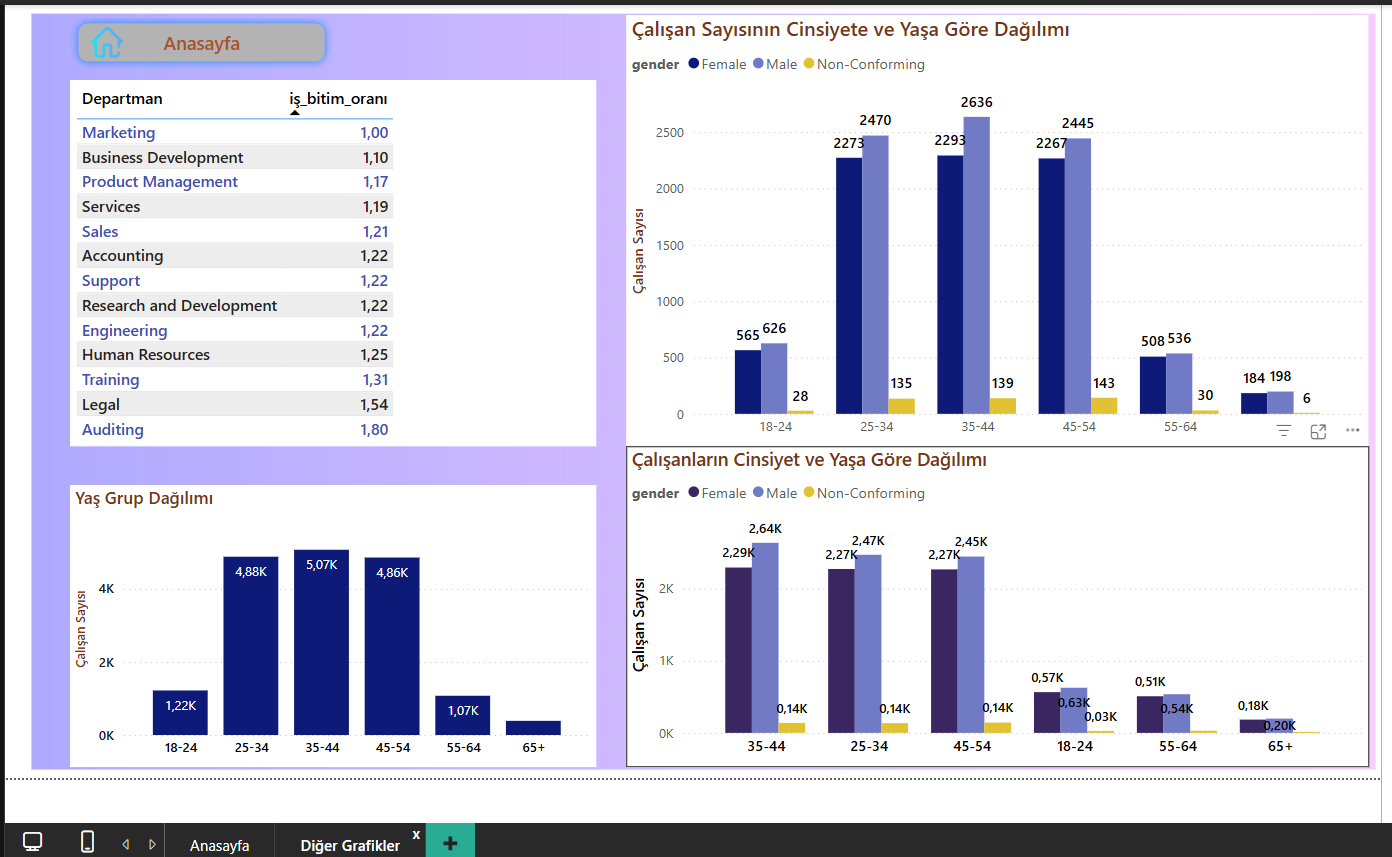

This screenshot's page, from the dashboard's own definition file:
{"tool":"powerbi","page":{"name":"Diğer Grafikler","canvas":[1280,720],"ordinal":1},"visuals":[{"type":"image","box":[19.8,0,1260.5,719.8],"z":0},{"type":"columnChart","title":"Yaş Grup Dağılımı","fields":{"Category":["age_grouped_gender.yaş_grubu"],"Y":["Sum(age_grouped_gender.toplam)"]},"box":[60.5,446.5,489.5,262.8],"z":1000},{"type":"clusteredColumnChart","title":"Çalışan Sayısının Cinsiyete ve Yaşa Göre Dağılımı","fields":{"Category":["age_grouped_gender.yaş_grubu"],"Y":["Sum(age_grouped_gender.toplam)"],"Series":["age_grouped_gender.gender"]},"box":[577.9,9.3,690.7,401.2],"z":2000},{"type":"tableEx","fields":{"Values":["bitim_oranı.department","bitim_oranı.iş_bitim_oranı"]},"box":[60.5,69.8,489.5,340.7],"z":3000},{"type":"clusteredColumnChart","title":"Çalışanların Cinsiyet ve Yaşa Göre Dağılımı","fields":{"Category":["age_grouped_gender.yaş_grubu"],"Series":["age_grouped_gender.gender"],"Y":["Sum(age_grouped_gender.toplam)"]},"box":[577.9,410.5,690.7,298.8],"z":4000},{"type":"pageNavigator","box":[60.5,9.3,245.3,51.2],"z":5000},{"type":"image","box":[75.6,15.1,39.5,39.5],"z":6000}]}

Visuals, with their boxes on the page's 1280x720 design canvas (x1, y1, x2, y2). These are canvas units, not pixel positions in the 1392x857 screenshot, which may show the page scaled, cropped or inside an application window:
image: {"x1": 20, "y1": 0, "x2": 1280, "y2": 720}
"Yaş Grup Dağılımı" columnChart: {"x1": 60, "y1": 446, "x2": 550, "y2": 709}
"Çalışan Sayısının Cinsiyete ve Yaşa Göre Dağılımı" clusteredColumnChart: {"x1": 578, "y1": 9, "x2": 1269, "y2": 410}
tableEx - bitim_oranı.department x bitim_oranı.iş_bitim_oranı: {"x1": 60, "y1": 70, "x2": 550, "y2": 410}
"Çalışanların Cinsiyet ve Yaşa Göre Dağılımı" clusteredColumnChart: {"x1": 578, "y1": 410, "x2": 1269, "y2": 709}
pageNavigator: {"x1": 60, "y1": 9, "x2": 306, "y2": 60}
image: {"x1": 76, "y1": 15, "x2": 115, "y2": 55}
